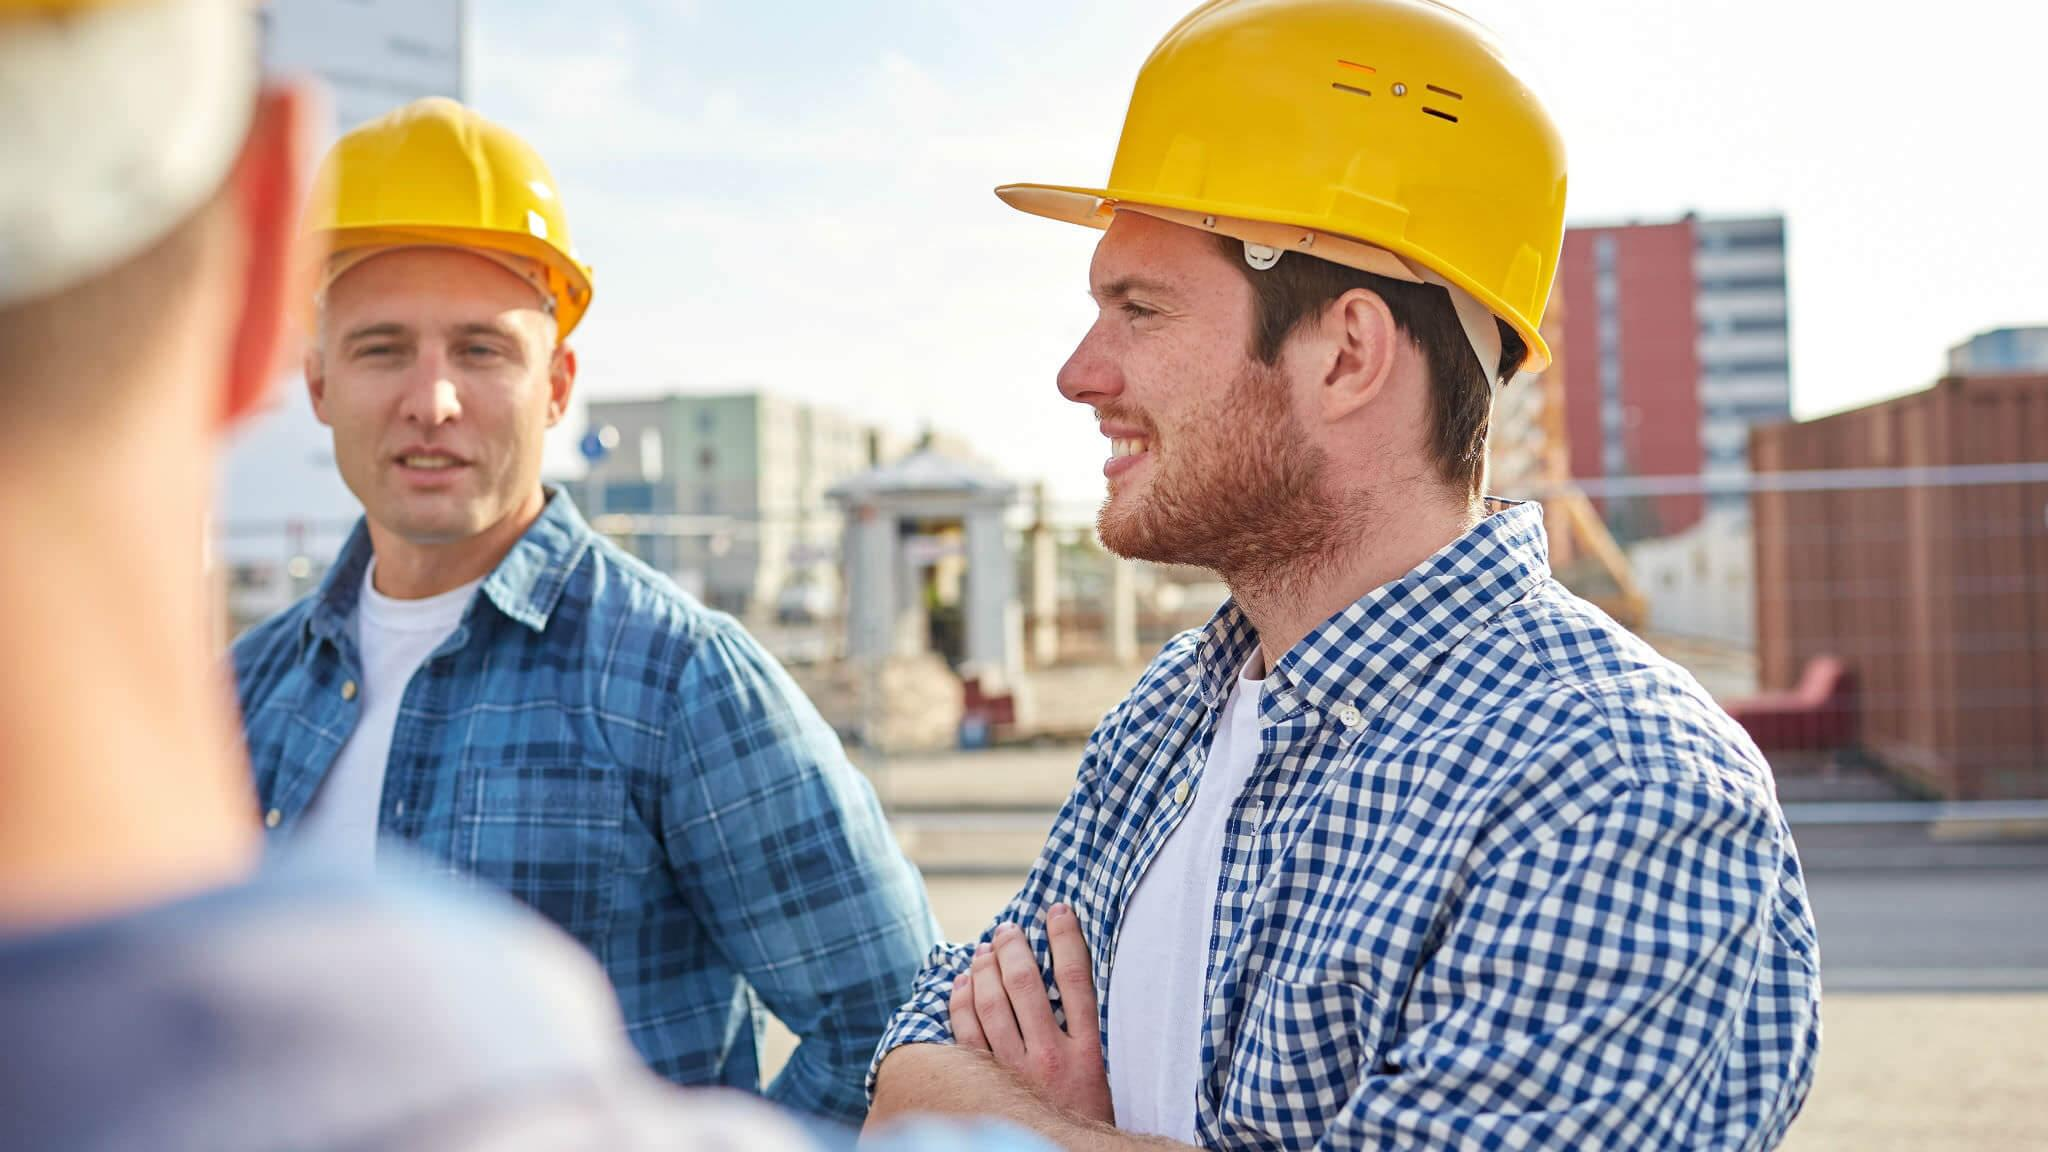helmet: (1009, 1, 1580, 470), (291, 98, 589, 335)
